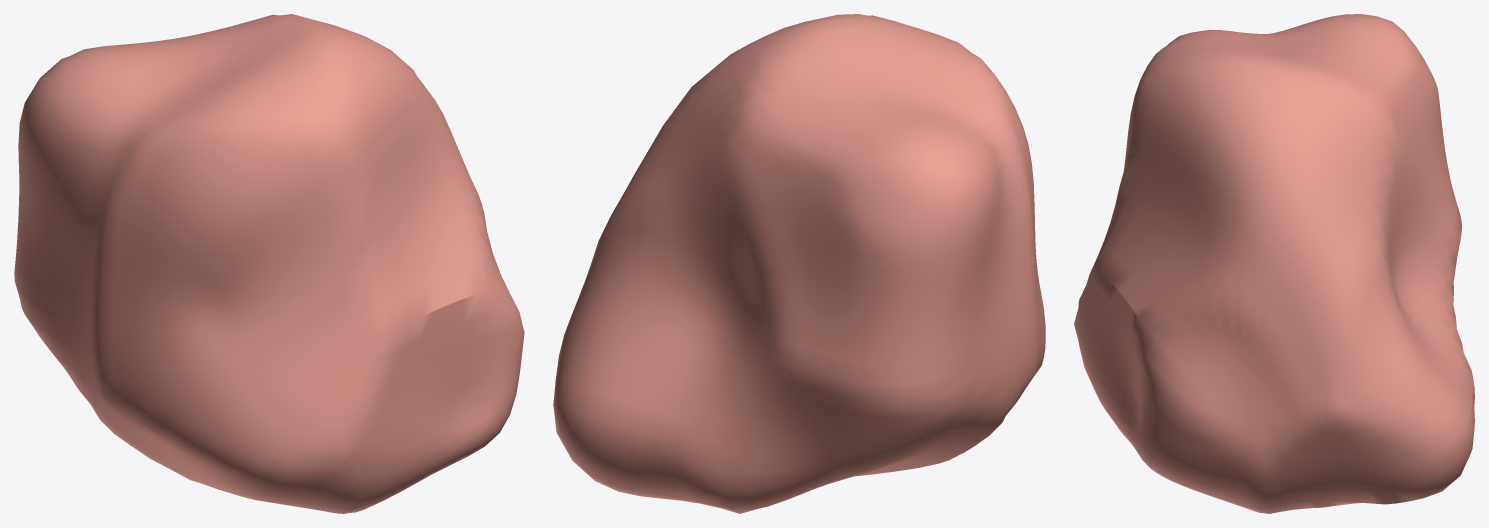
The model's file is rock_stage_1.fbx.
The picture shows the model from 3 angles, left to right: view 1: azimuth 30°, elevation 25°; view 2: azimuth 150°, elevation 25°; view 3: azimuth 270°, elevation 25°; orthographic projection. The views are drawn at different scales.
Parts seen in each view (by area): view 1: rock.004; view 2: rock.004; view 3: rock.004.
Part boxes in pixels (left/top/right/bottom): rock.004: left=14, top=14, right=524, bottom=513; rock.004: left=553, top=14, right=1045, bottom=513; rock.004: left=1074, top=14, right=1474, bottom=513.
Size of the model in its own units: 123 by 128 by 114.
